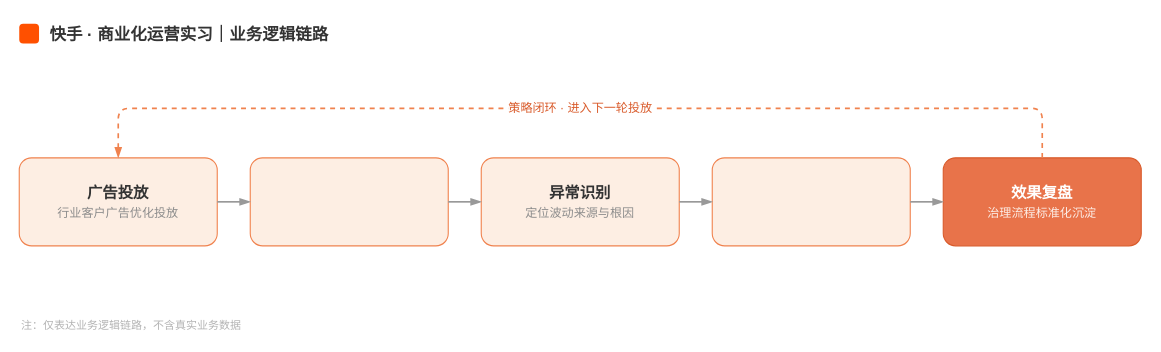
This 1161x352 diagram has some shape labels left out. Here are the shapes that lost their labels. From the top down, the centre of each, then its label:
At point (348, 201): "数据监控 核心指标周报沉淀".
At point (810, 201): "策略迭代 客户分层 · 定向优化".
